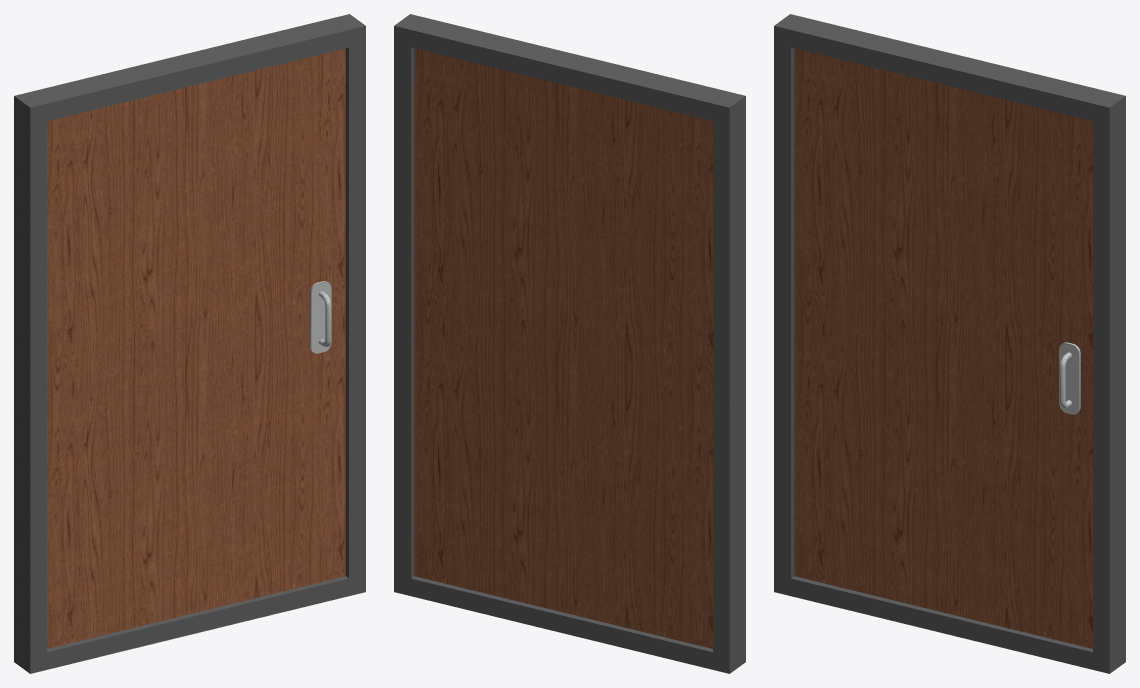
The model's file is Door.fbx.
3 renders of one model, left to right at view 1: azimuth 30°, elevation 25°; view 2: azimuth 150°, elevation 25°; view 3: azimuth 330°, elevation 25°, orthographic.
Parts seen in each view (by area): view 1: Door, DoorFrame, Handle; view 2: Door, DoorFrame; view 3: Door, DoorFrame, Handle.
Part boxes in pixels (<box>): Door: <box>47,48,345,648</box>; DoorFrame: <box>14,14,365,673</box>; Handle: <box>310,281,331,353</box>; Door: <box>414,48,712,648</box>; DoorFrame: <box>394,14,745,673</box>; Door: <box>794,48,1092,648</box>; DoorFrame: <box>774,14,1125,673</box>; Handle: <box>1059,342,1080,414</box>.
Bounding box in the file's own units: 98.79 × 159 × 11.54.
Materials: 1 (1 with a texture image).
